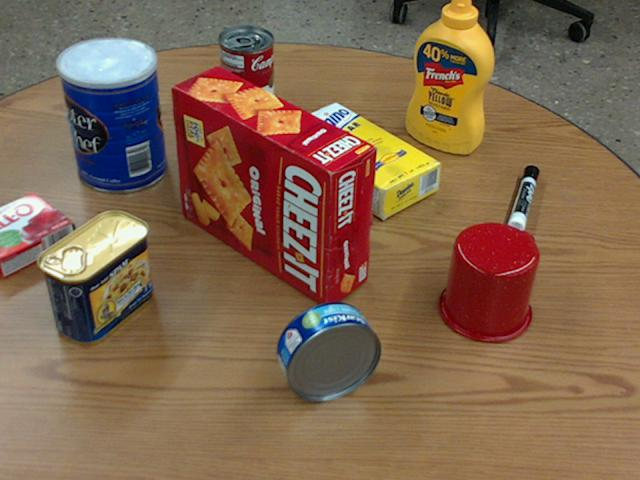cracker_box: (171, 66, 375, 306)
gelatin_box: (0, 191, 73, 275)
large_marker: (508, 165, 540, 234)
master_chef_can: (57, 38, 165, 193)
mug: (437, 221, 538, 341)
mustard_bottle: (407, 0, 494, 153)
potted_meat_can: (36, 208, 150, 342)
sugar_box: (281, 102, 440, 218)
tomato_soup_can: (218, 25, 273, 122)
tuna_fish_can: (277, 301, 381, 399)
